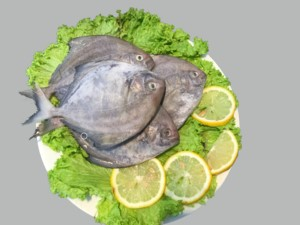Ikan Bawal: (26, 62, 173, 144)
